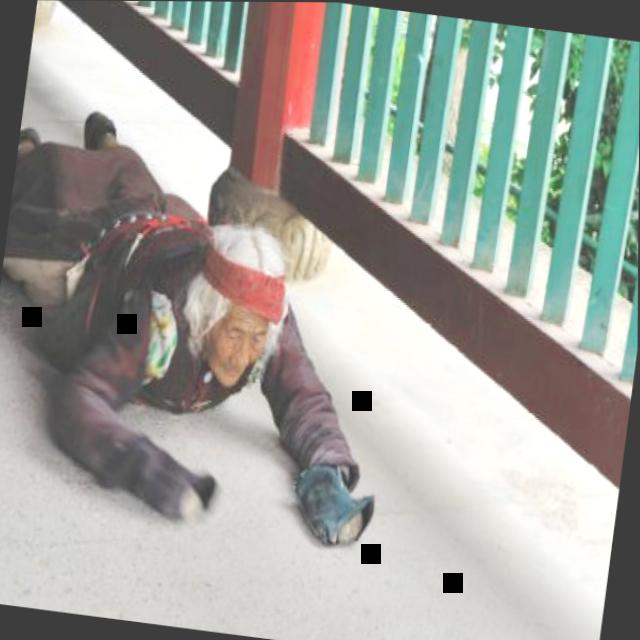Fall-Detected: (0, 88, 420, 554)
